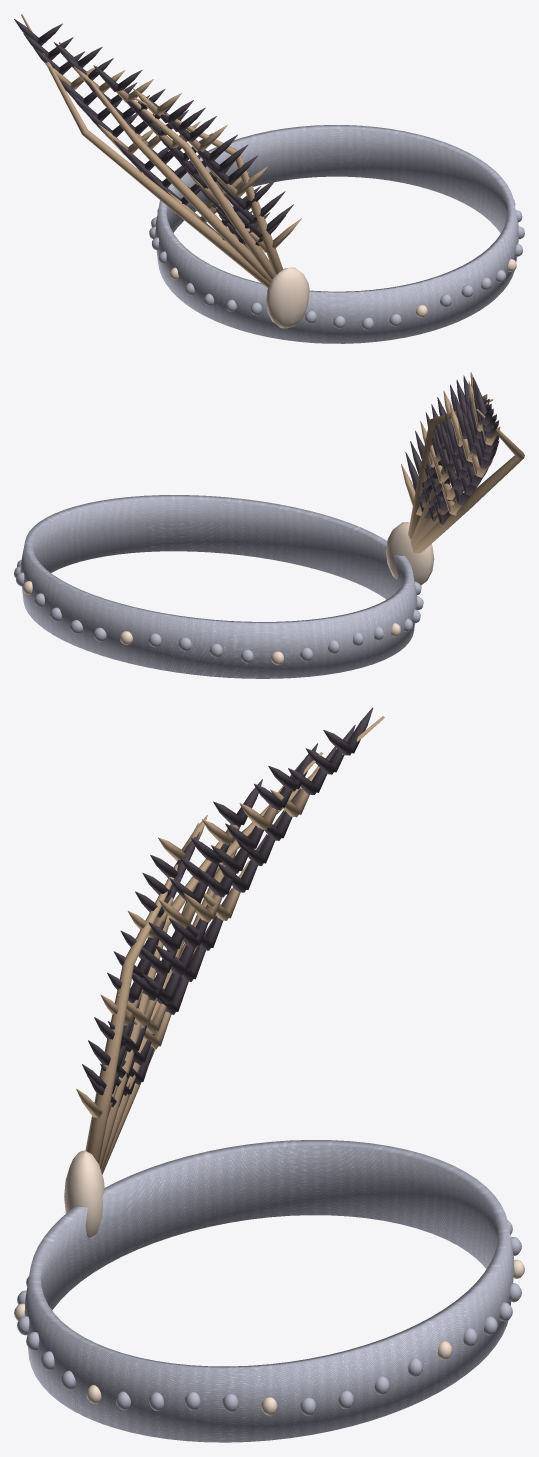
The model's file is jazz-feather.glb.
3 views of the same model, one above another, from view 1: azimuth 30°, elevation 25°; view 2: azimuth 150°, elevation 25°; view 3: azimuth 270°, elevation 25° (orthographic). The views are drawn at different scales.
Parts seen in each view (by area): view 1: jazz-feather; view 2: jazz-feather; view 3: jazz-feather.
Part boxes in pixels (x1=…): jazz-feather: x1=14, y1=14, x2=524, y2=343; jazz-feather: x1=14, y1=372, x2=524, y2=678; jazz-feather: x1=14, y1=707, x2=524, y2=1442.
Size of the model in its own units: 1.74 by 1.1 by 1.16.
4 materials, 1 textured.
